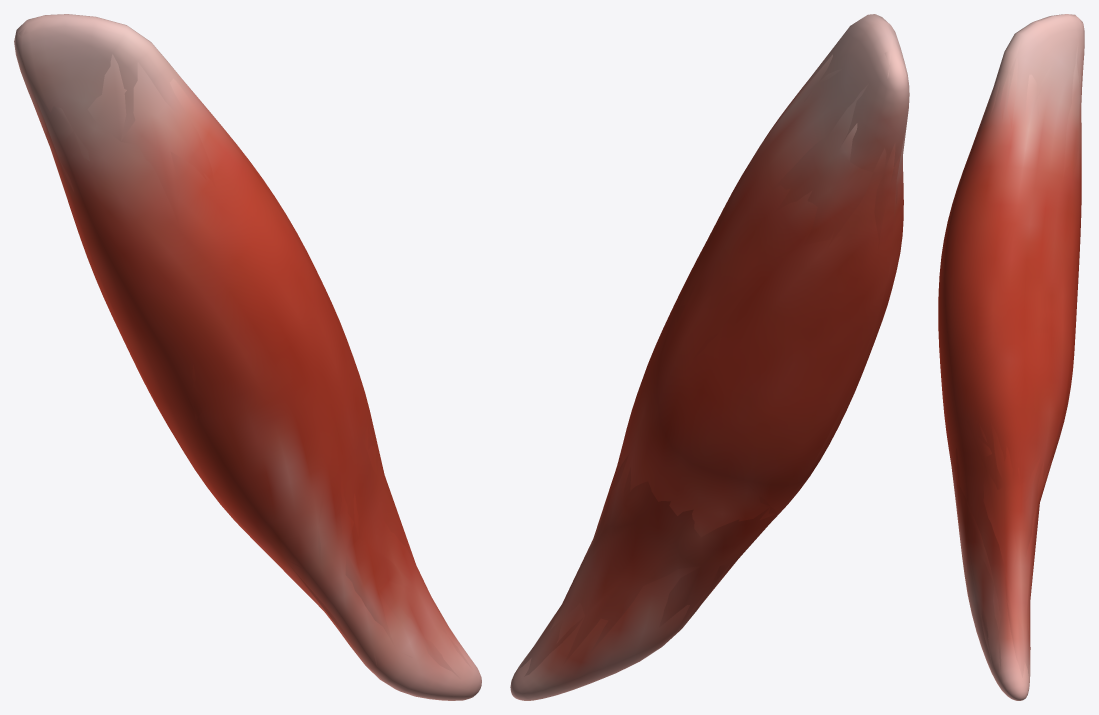
The model's file is L Pectineus.fbx.
3 renders of one model, left to right at view 1: azimuth 30°, elevation 25°; view 2: azimuth 150°, elevation 25°; view 3: azimuth 270°, elevation 25°, orthographic. The views are drawn at different scales.
Visible parts, largest first — view 1: L Pectineus, L Pectineus low; view 2: L Pectineus, L Pectineus low; view 3: L Pectineus, L Pectineus low.
Part boxes in pixels (x1=…): L Pectineus: x1=14, y1=14, x2=481, y2=700; L Pectineus low: x1=18, y1=15, x2=473, y2=680; L Pectineus: x1=510, y1=14, x2=909, y2=700; L Pectineus low: x1=519, y1=17, x2=908, y2=676; L Pectineus: x1=938, y1=14, x2=1084, y2=700; L Pectineus low: x1=948, y1=14, x2=1081, y2=681.
Size of the model in its own units: 10.85 by 18.5 by 4.46.
